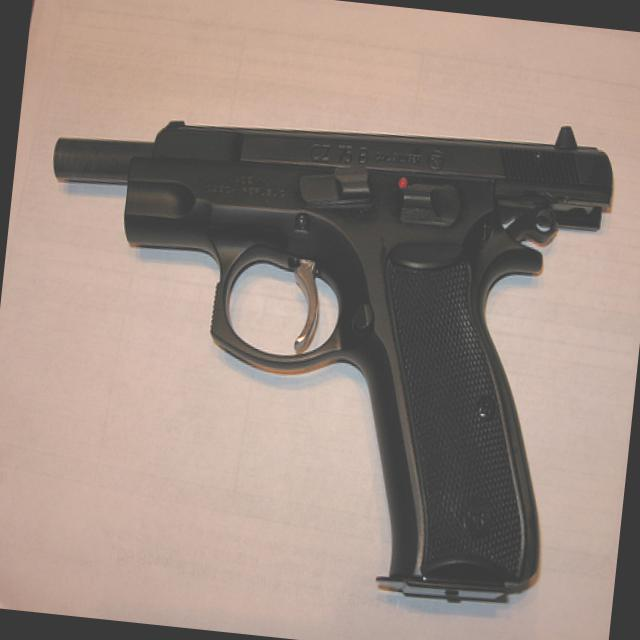handgun: (8, 69, 610, 620)
